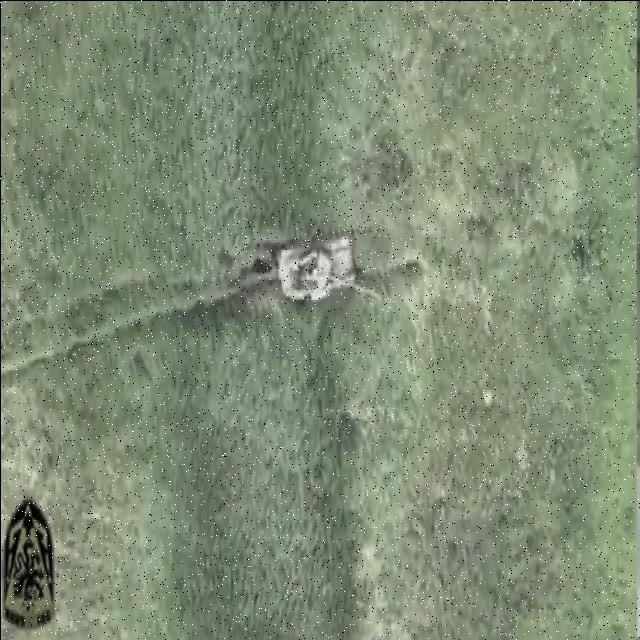TANK: (278, 227, 382, 313)
